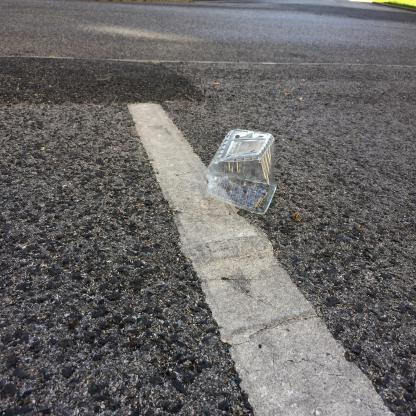plastik: (207, 129, 279, 217)
